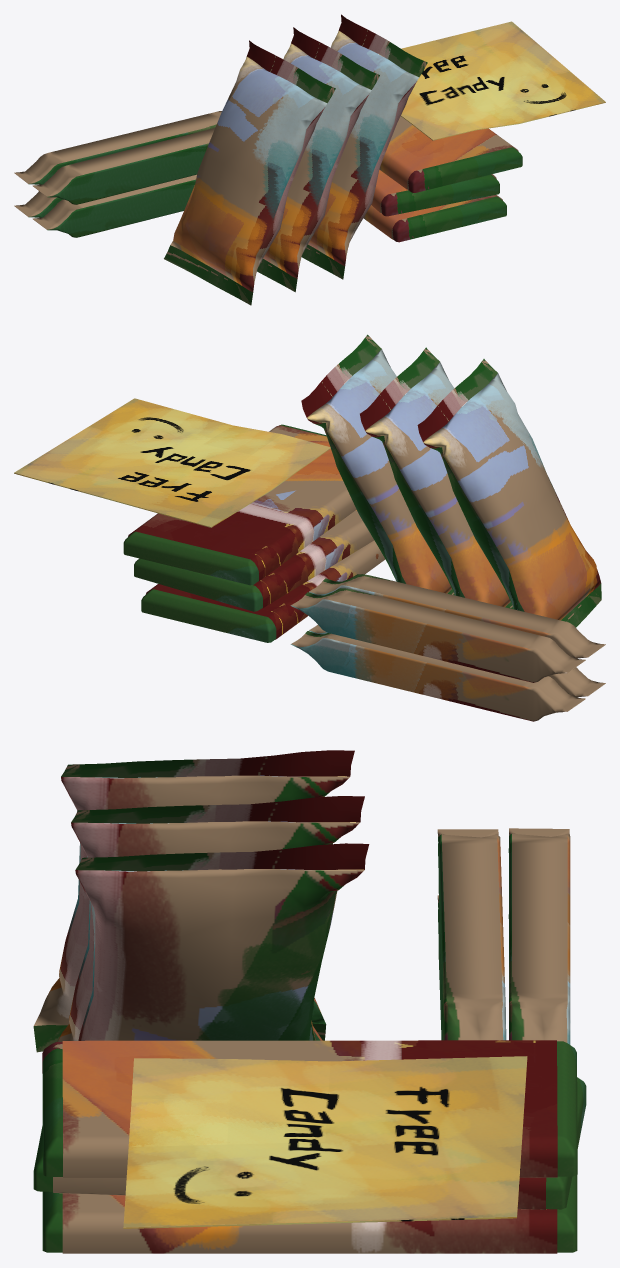
Rendered from LO_free_candy.glb.
3 views of the same model, one above another, from view 1: azimuth 30°, elevation 25°; view 2: azimuth 150°, elevation 25°; view 3: azimuth 270°, elevation 25° (orthographic). The views are drawn at different scales.
Parts seen in each view (by area): view 1: free_candy, Plane.003; view 2: free_candy, Plane.003; view 3: free_candy, Plane.003.
Boxes of the visible parts, left/top/right/bottom form: free_candy: left=14, top=14, right=522, bottom=305; Plane.003: left=379, top=21, right=605, bottom=140; free_candy: left=123, top=334, right=605, bottom=721; Plane.003: left=14, top=398, right=330, bottom=527; free_candy: left=33, top=750, right=586, bottom=1253; Plane.003: left=123, top=1056, right=527, bottom=1228.
Size of the model in its own units: 0.2161 by 0.0813 by 0.1066.
4 materials, 4 textured.
